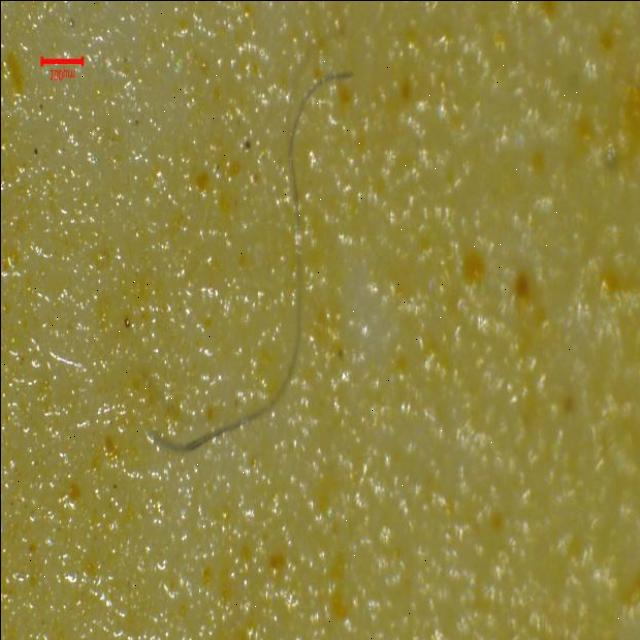Fibre: (144, 62, 358, 456)
